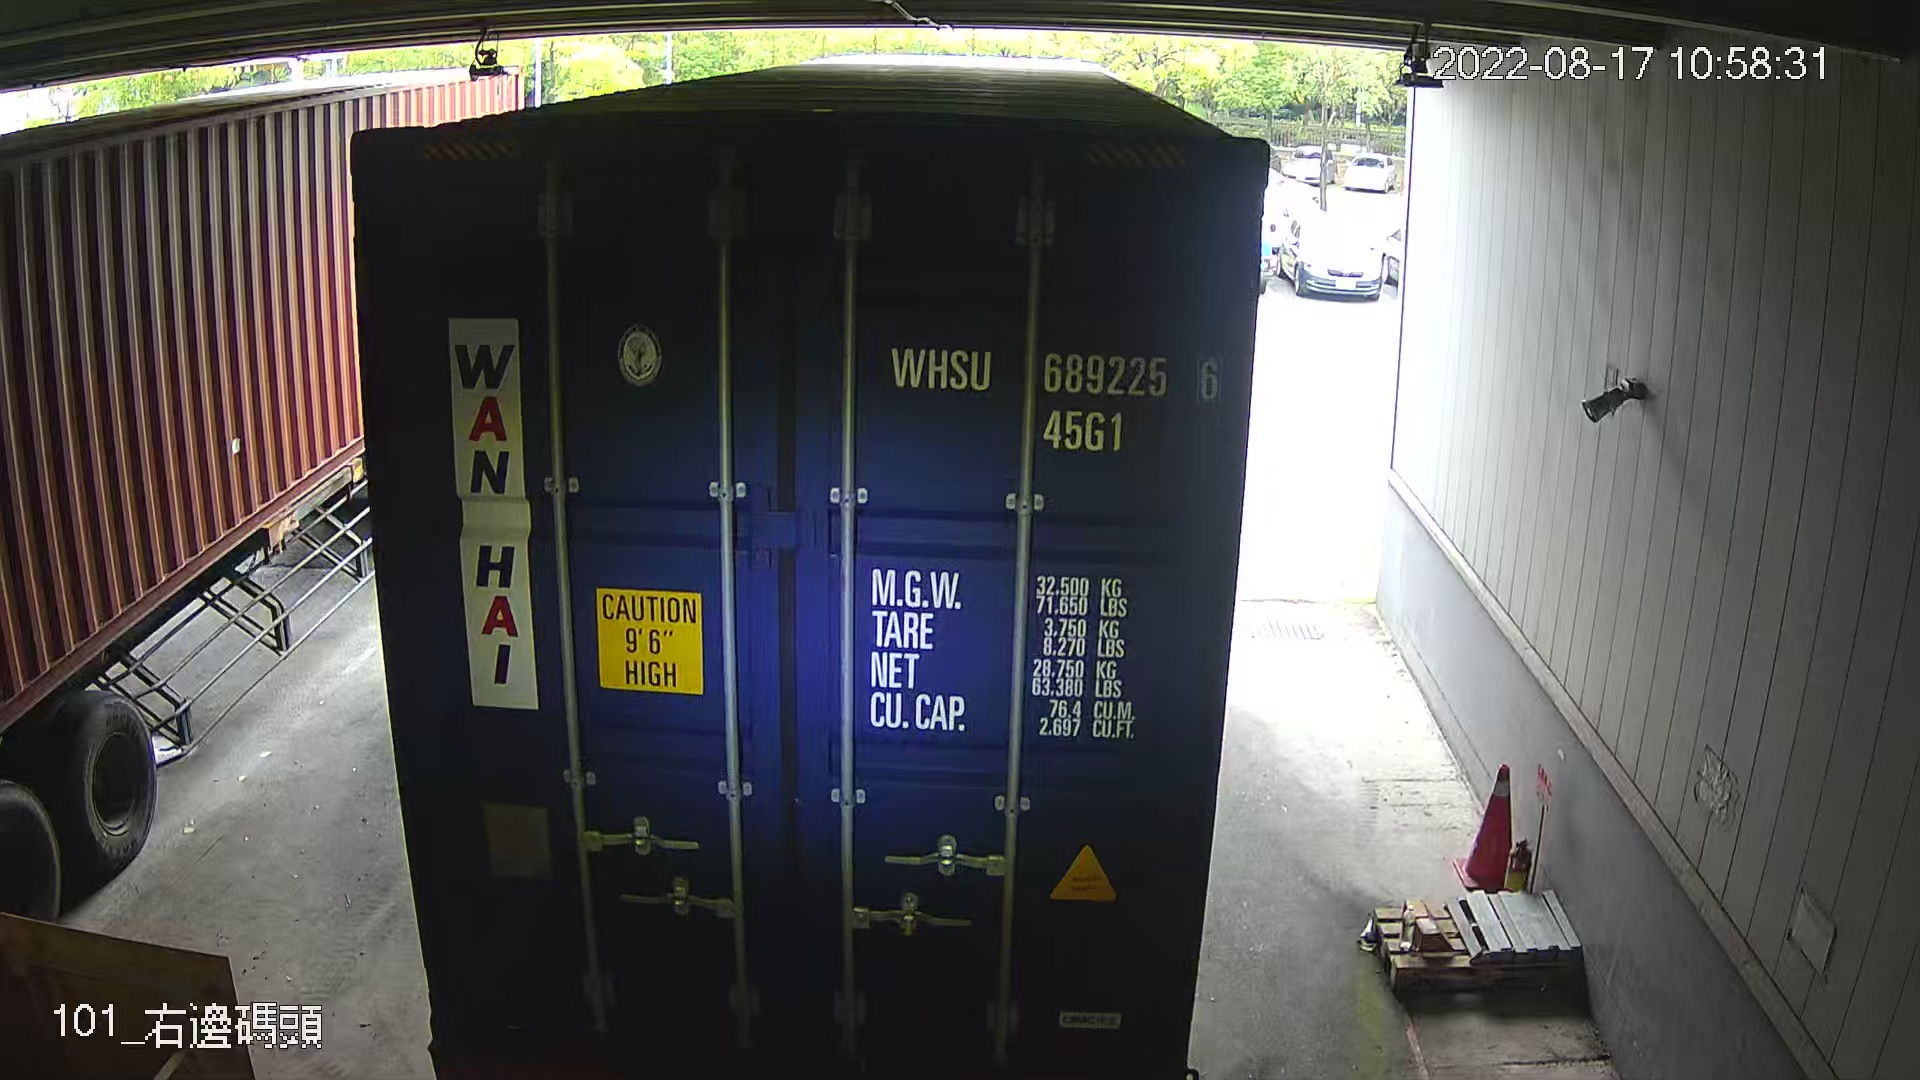container: (873, 326, 1232, 467)
